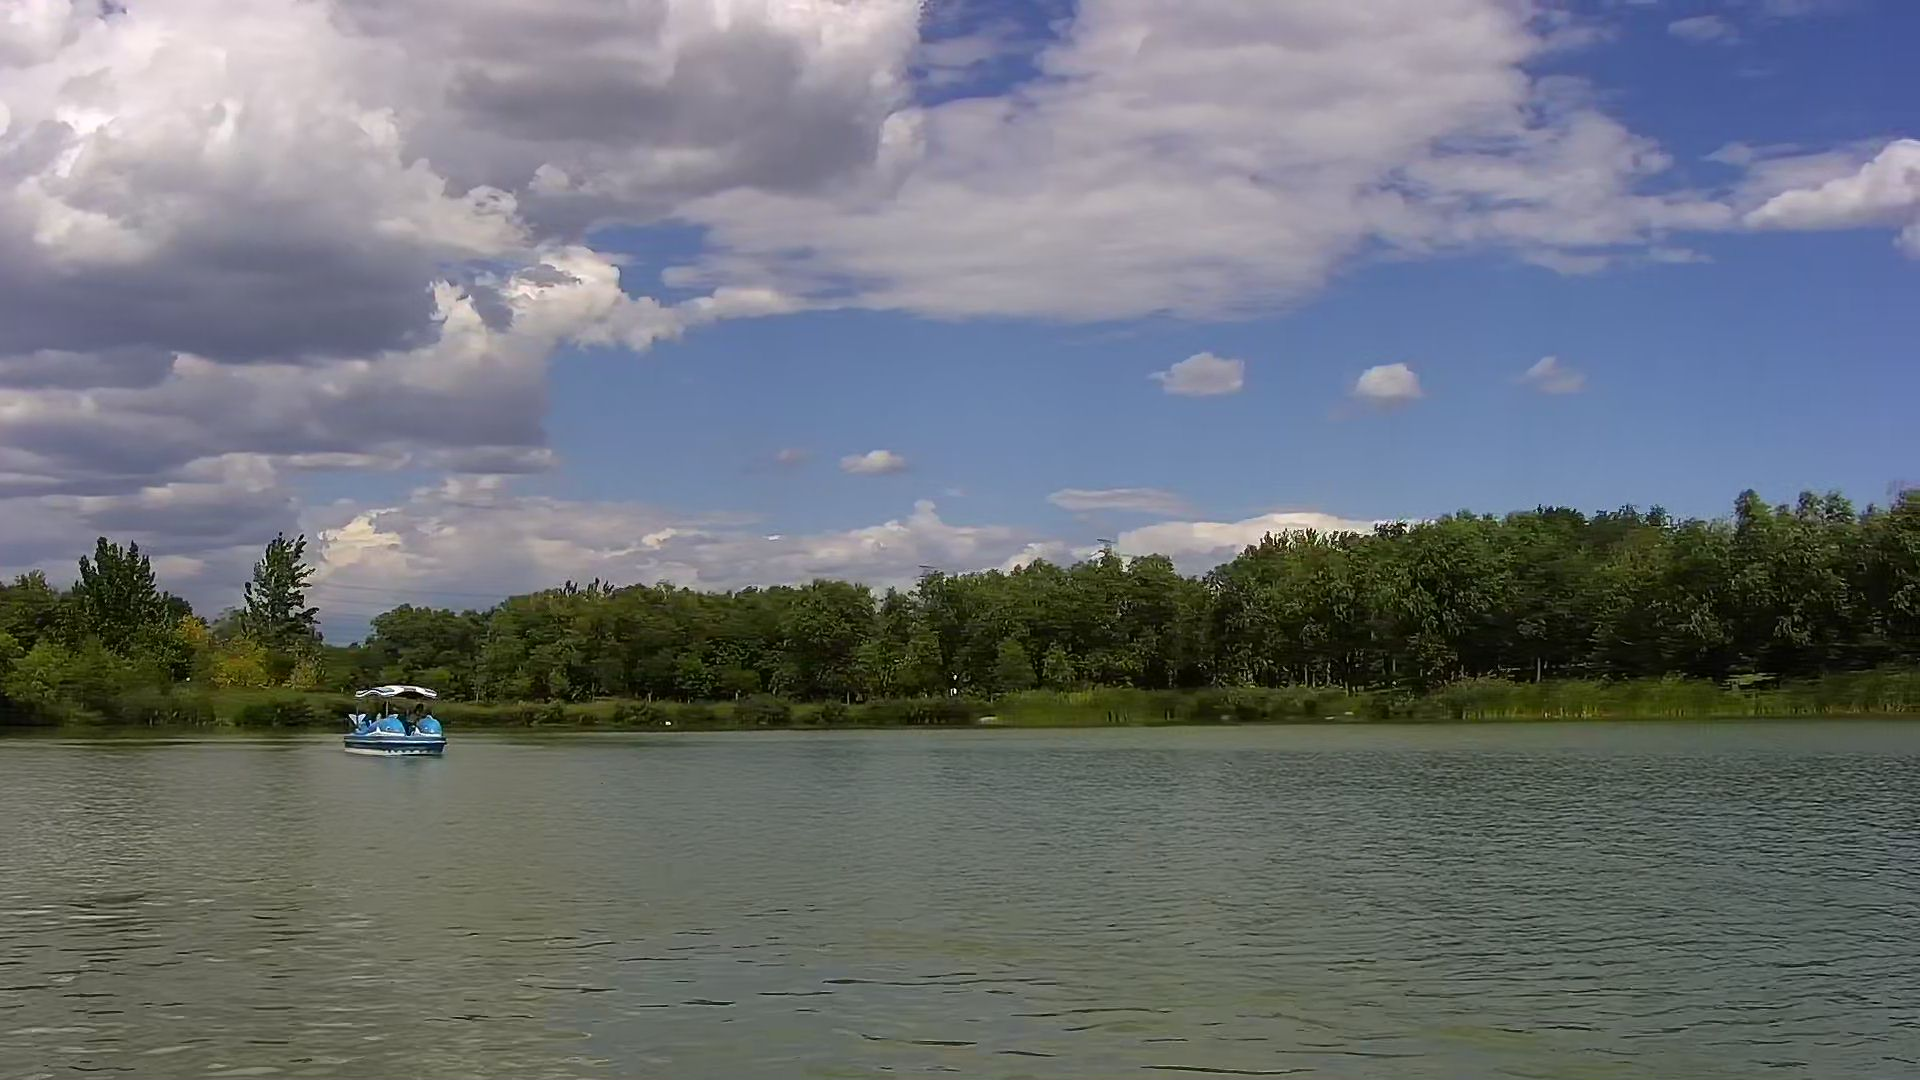boat: (340, 684, 439, 770)
